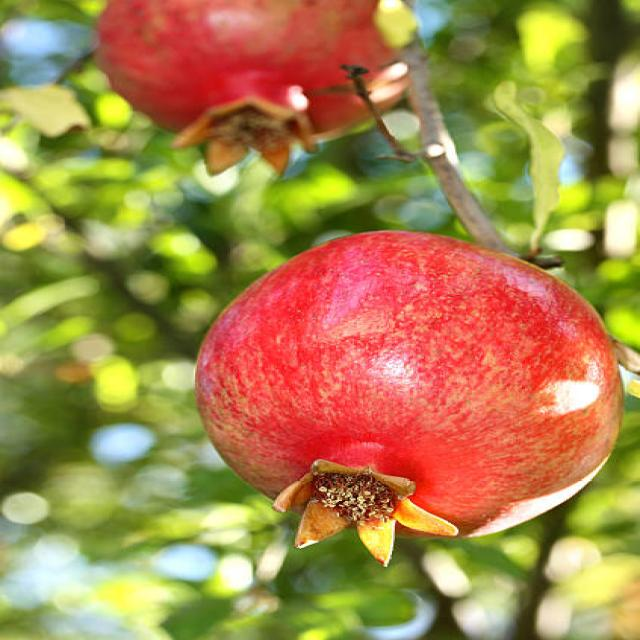Ripe: (189, 227, 640, 554)
